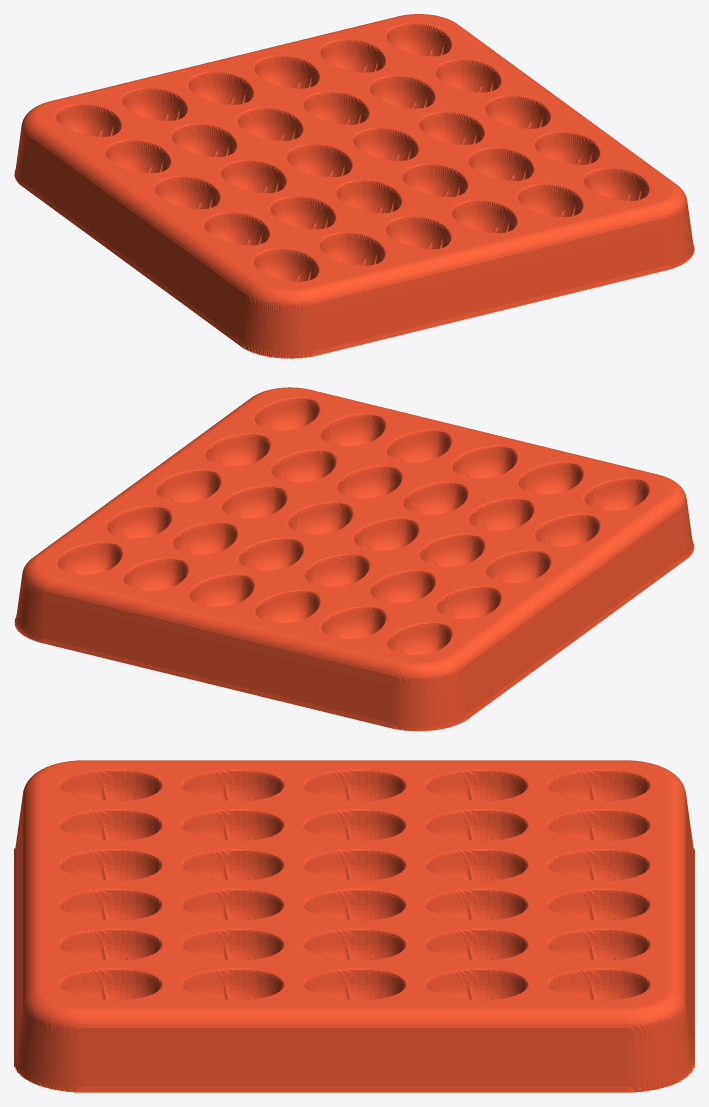
File: mold.glb
3 renders of one model, top to bottom at view 1: azimuth 30°, elevation 25°; view 2: azimuth 150°, elevation 25°; view 3: azimuth 270°, elevation 25°, orthographic. The views are drawn at different scales.
Visible parts, largest first — view 1: geometry_0; view 2: geometry_0; view 3: geometry_0.
Part boxes in pixels (box(x1,y1,x2,y2)): geometry_0: box(14, 14, 694, 358); geometry_0: box(14, 387, 694, 731); geometry_0: box(14, 760, 694, 1092).
Bounding box in the file's own units: 0.0824 × 0.0105 × 0.0882.
